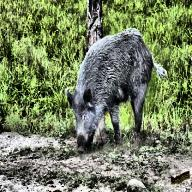boar: (61, 33, 158, 155)
